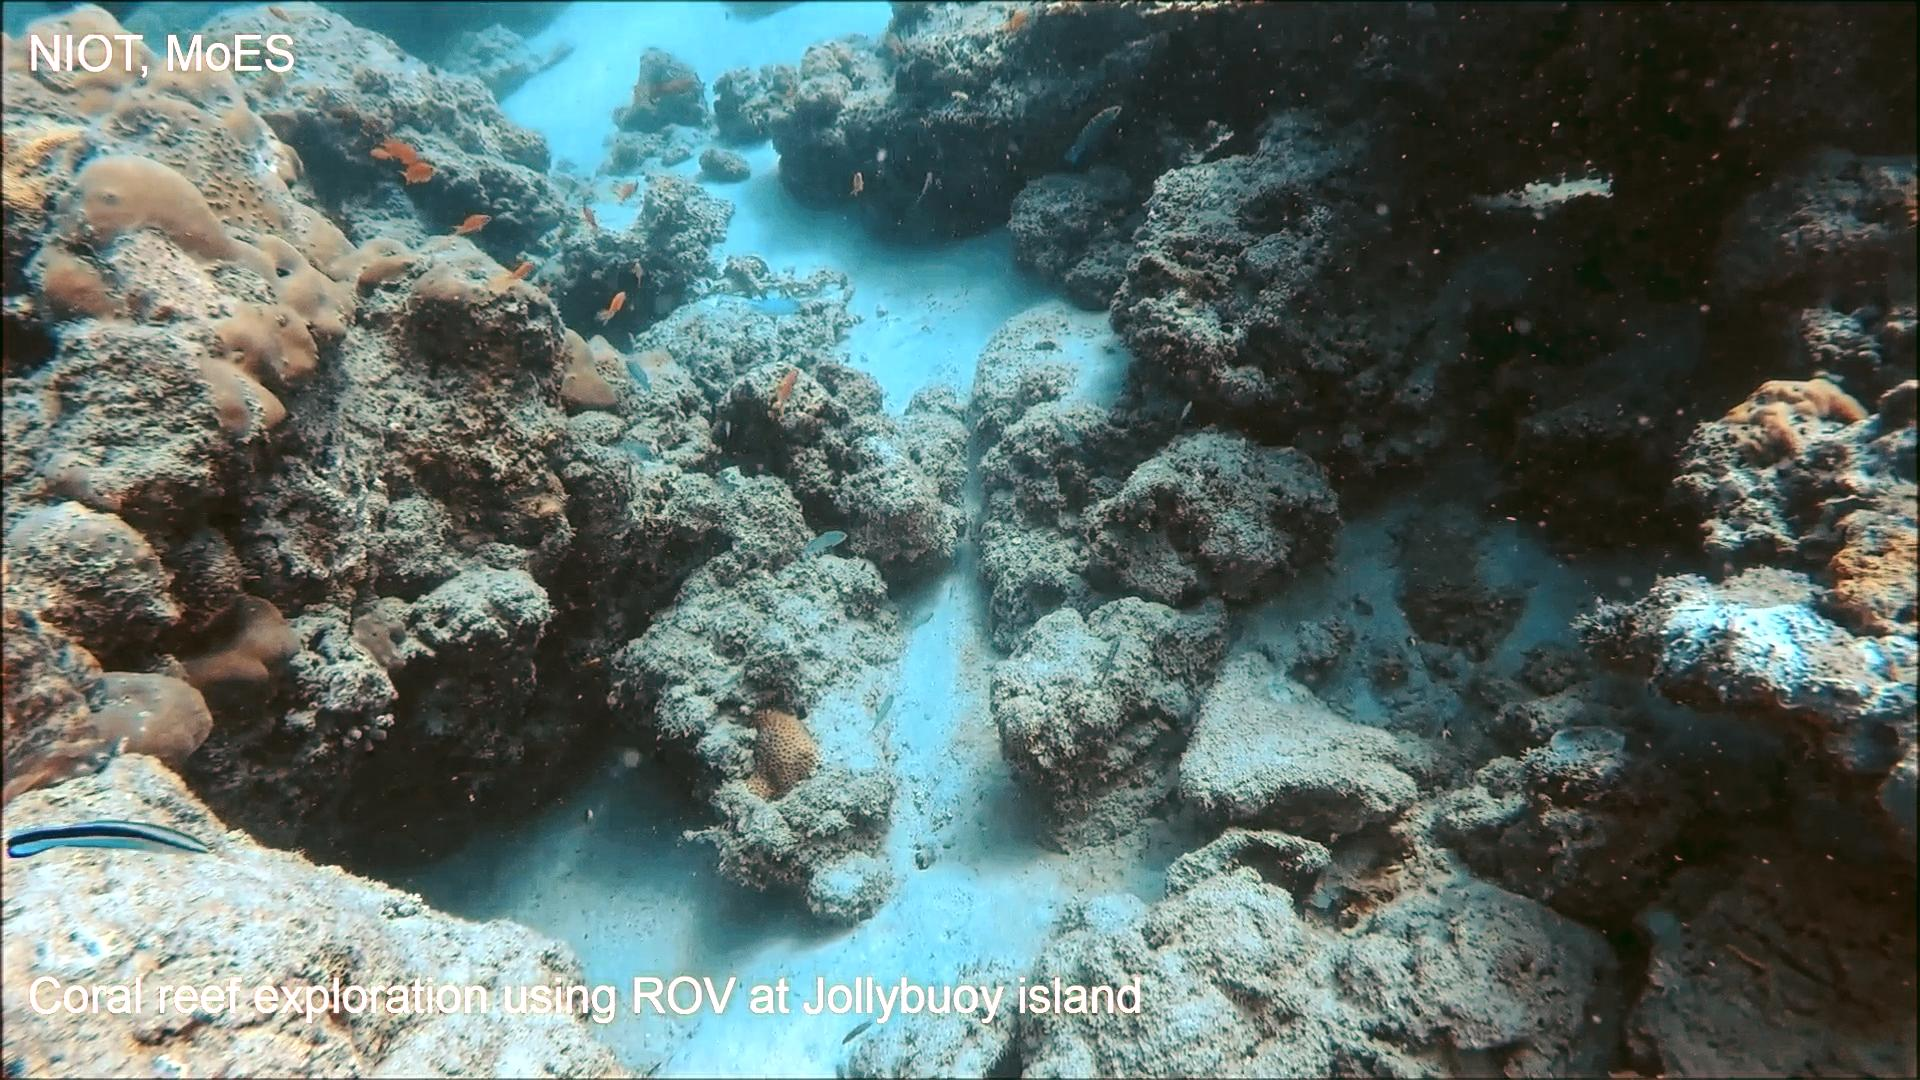Porites-Porites pukoensis: (0, 0, 423, 452)
